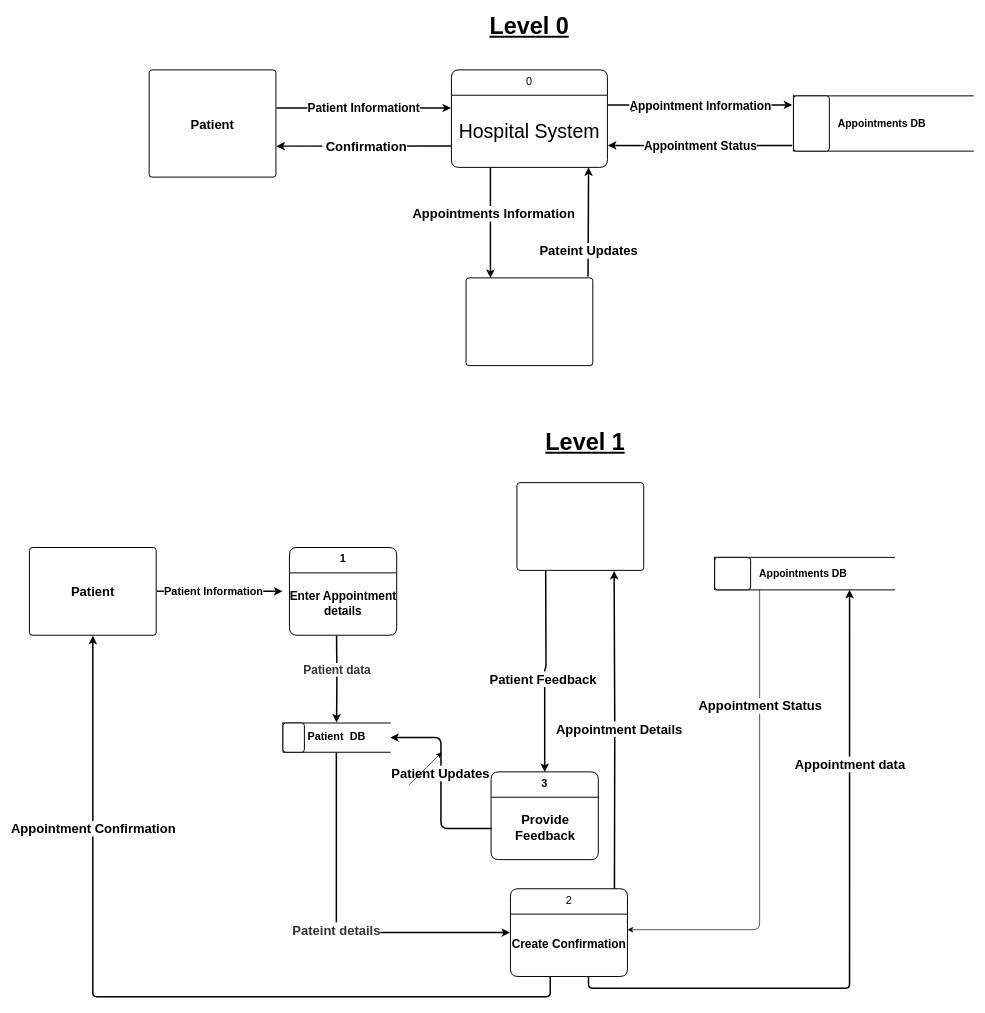
Some shapes in this 985 by 1013 pixel diagram are drawn without their labels. The centre of each missing label's shape, as x and y in pixels:
"Doctor" belongs at pixel 529 321.
"ِDoctor" belongs at pixel 580 526.
